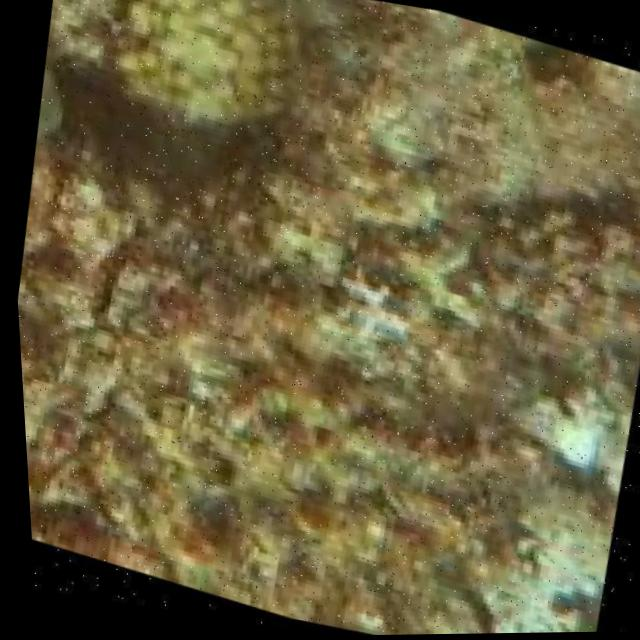Bleached Coral: (28, 0, 404, 189)
